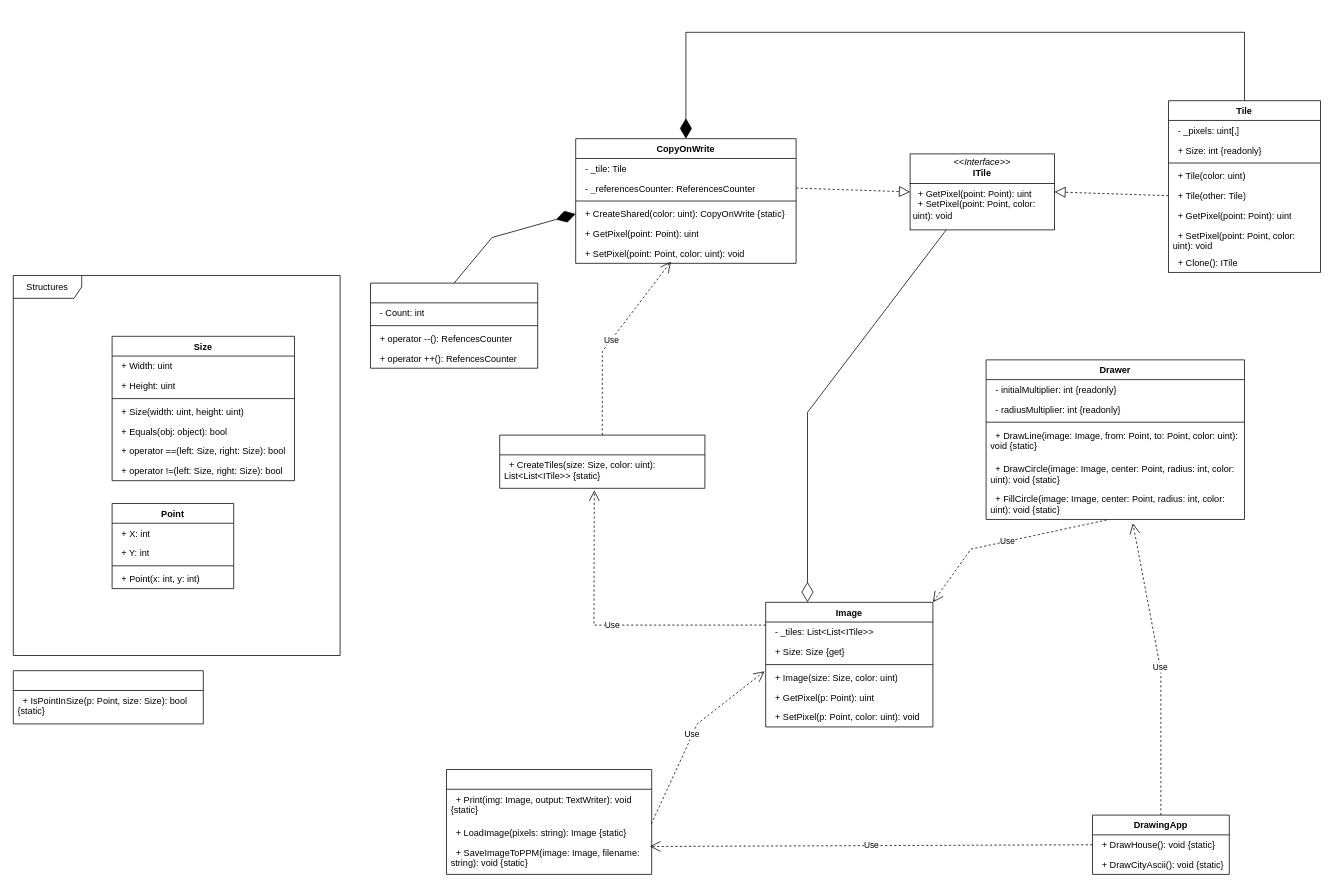
Image size: 1334x890. Some labels were removed from this diagram. The box of each missing label's shape, as (x1, y1, x2, y2) in pixels:
Geom: (13, 670, 203, 724)
ImageController: (446, 769, 652, 874)
ReferencesCounter: (370, 282, 538, 368)
TileFactory: (499, 434, 705, 488)
